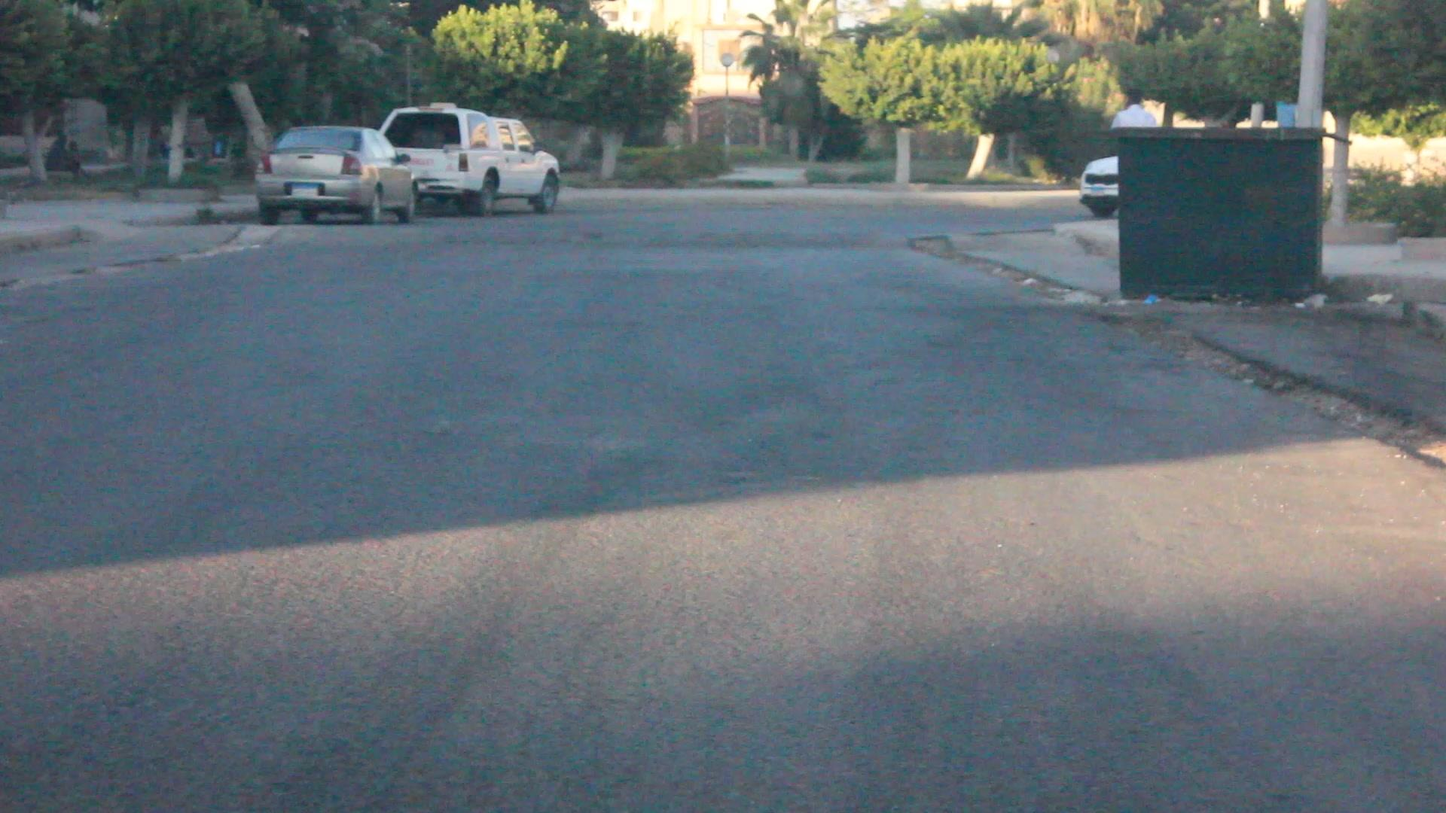Bump: (201, 210, 1057, 255)
